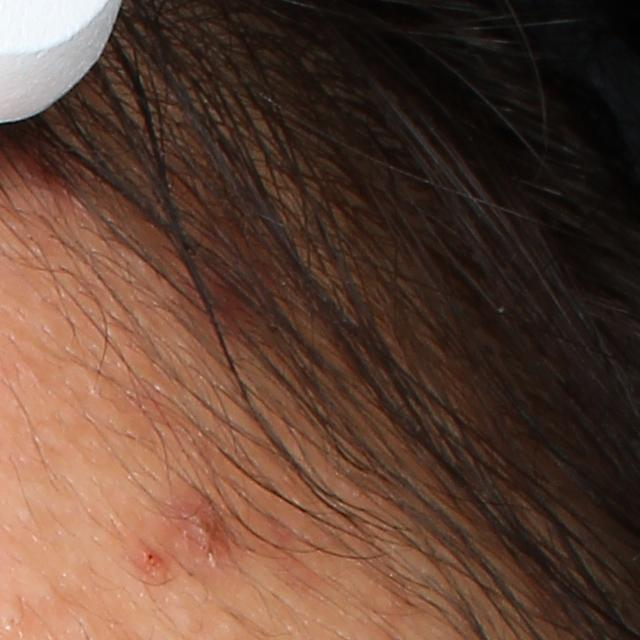papule: (174, 498, 233, 563), (139, 545, 170, 575)
